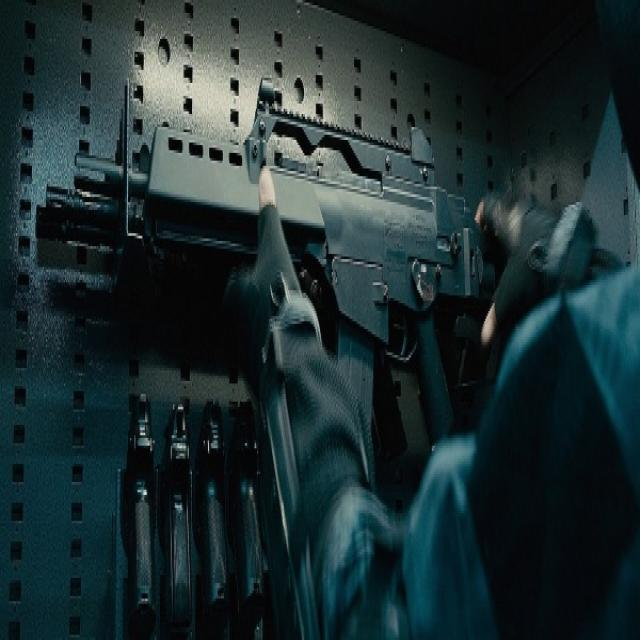weapon: (33, 64, 492, 442)
